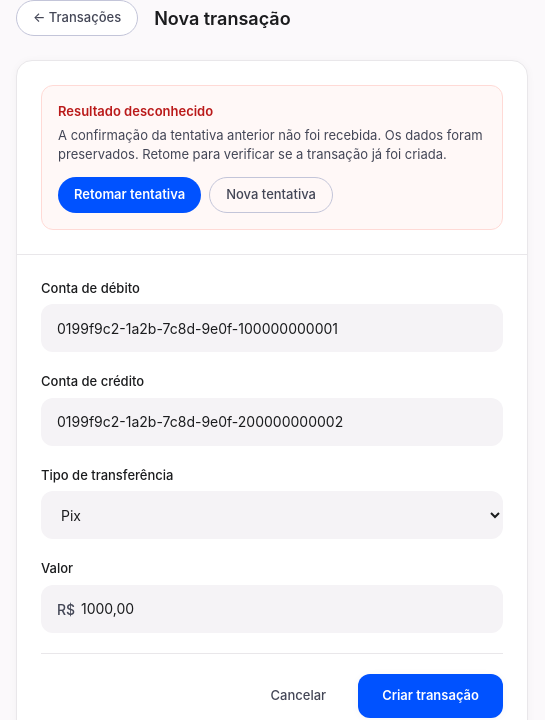
Test: web/CreateTransactionView — TI-05 › oculta a UI de recuperação ao clicar em nova tentativa
Expected: the text "Resultado desconhecido" is shown, [58,103,213,119]
Click the button "Nova tentativa" at (271, 194), box [209,176,333,212]
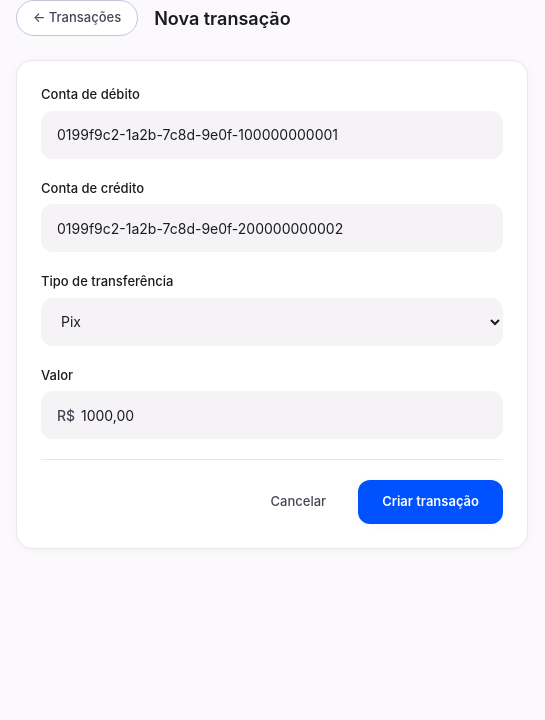
Now the text "Resultado desconhecido" is gone
